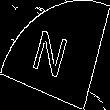N_S: (33, 24, 77, 86)
